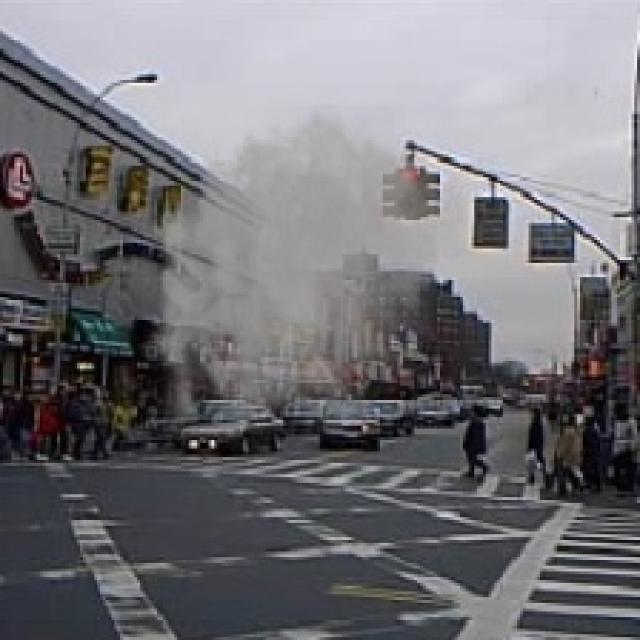smoke: (134, 89, 483, 452)
